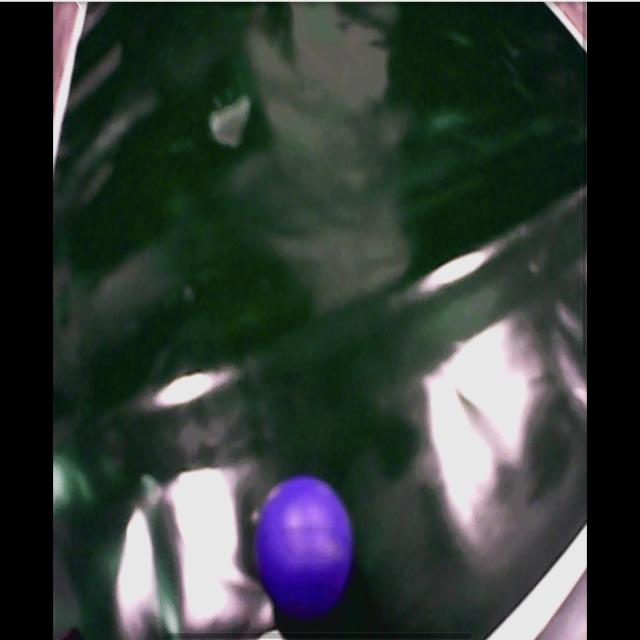ball: (259, 477, 353, 615)
